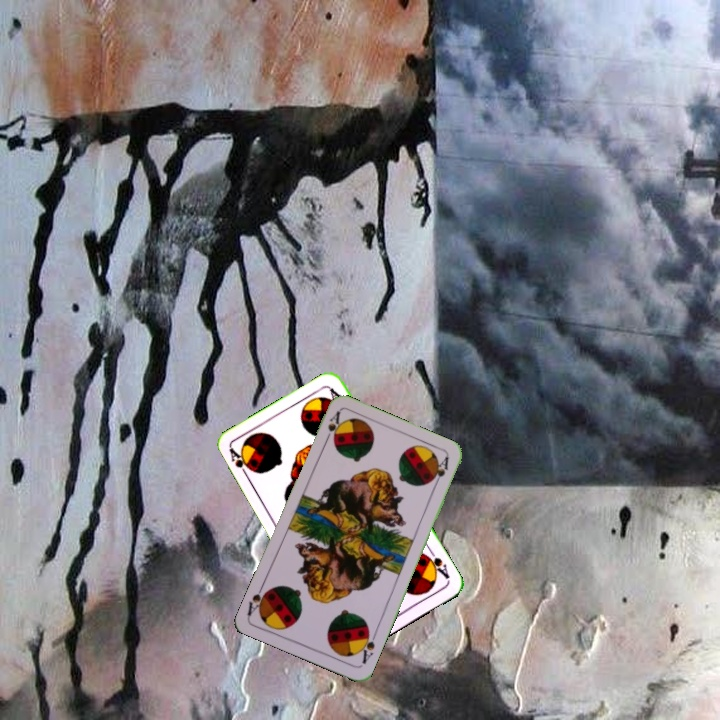SA: (420, 546, 452, 582), (225, 444, 253, 482), (355, 626, 379, 666), (320, 407, 343, 446)
